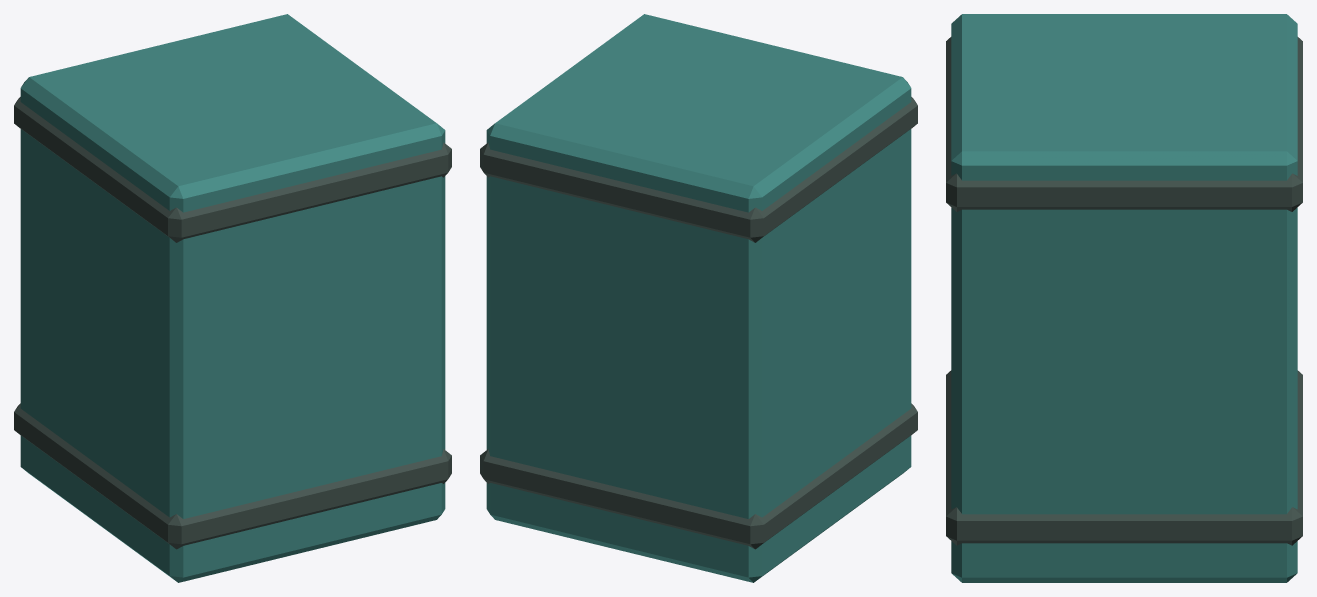
Rendered from trash_bin.glb.
The picture shows the model from 3 angles, left to right: view 1: azimuth 30°, elevation 25°; view 2: azimuth 150°, elevation 25°; view 3: azimuth 270°, elevation 25°; orthographic projection. The views are drawn at different scales.
Visible parts, largest first — view 1: trash_bin.001; view 2: trash_bin.001; view 3: trash_bin.001.
Part boxes in pixels (x1,y1,x2,y2): trash_bin.001: (14, 14, 451, 582); trash_bin.001: (480, 14, 917, 582); trash_bin.001: (946, 14, 1302, 582).
Bounding box in the file's own units: 0.824 × 1.1 × 0.824.
